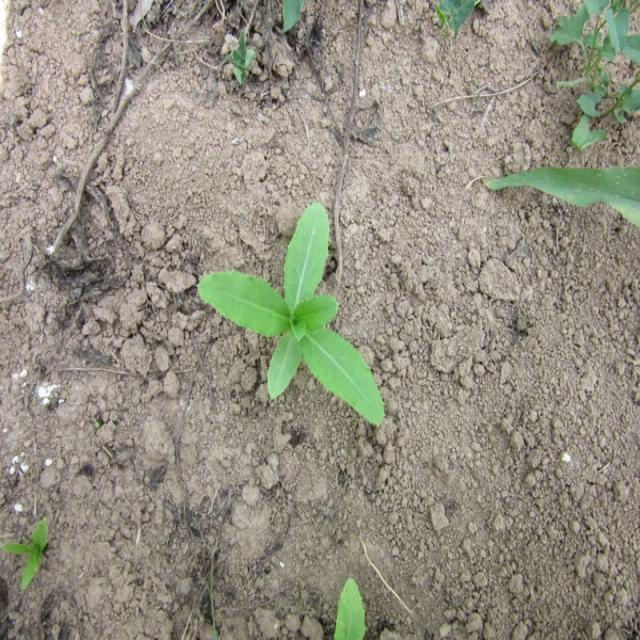cs: (197, 198, 390, 430)
